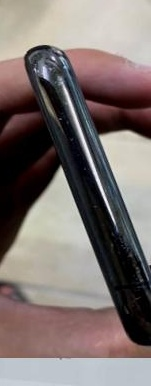scratch: (20, 45, 88, 136), (91, 229, 151, 327)
